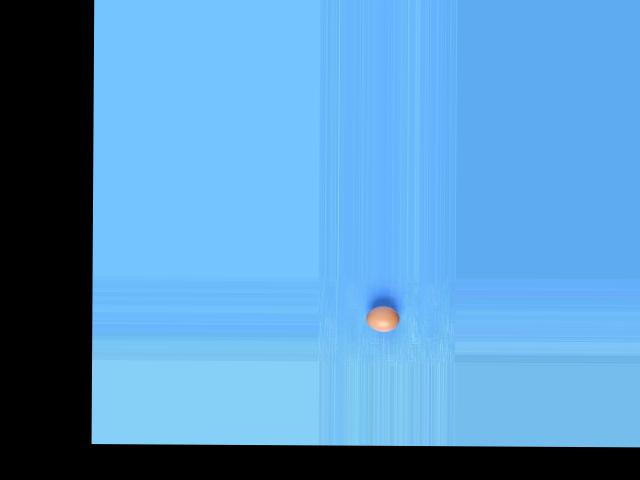egg: (366, 304, 399, 332)
